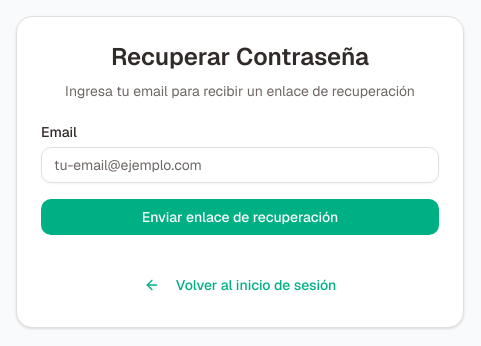
Test case: ResetPasswordPage › should disable submit button while loading
Type "test@example.com" into the field labelled "Email" at [240, 165], box [41,147,439,183]
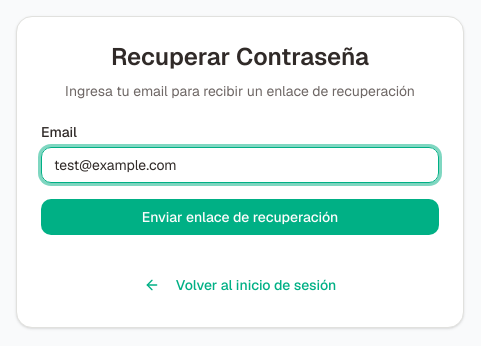
Click the button "Enviar enlace de recuperación" at [240, 217], box [41,199,439,235]
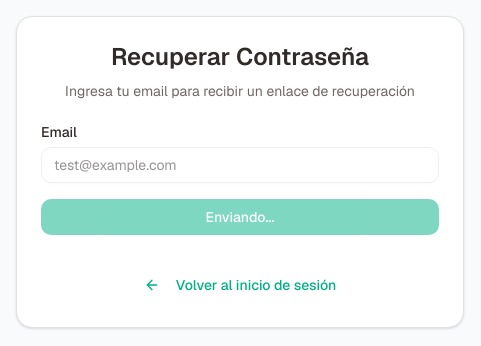
Expected: the button named "Enviar enlace de recuperación" is disabled, [41,199,439,235]
